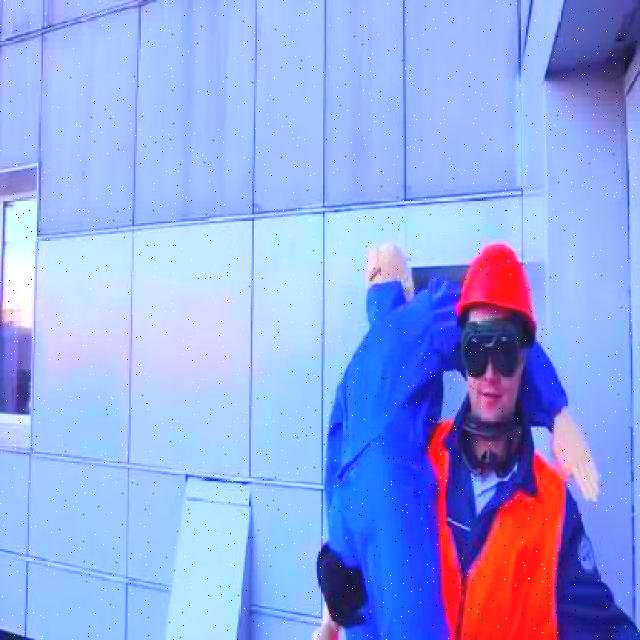Gloves: (315, 540, 373, 629)
Helmet: (454, 242, 536, 328)
Mask: (323, 267, 562, 630), (428, 412, 566, 638)
